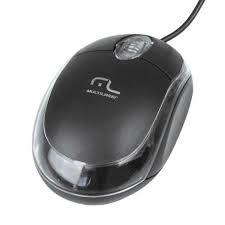mouse: (18, 10, 200, 213)
